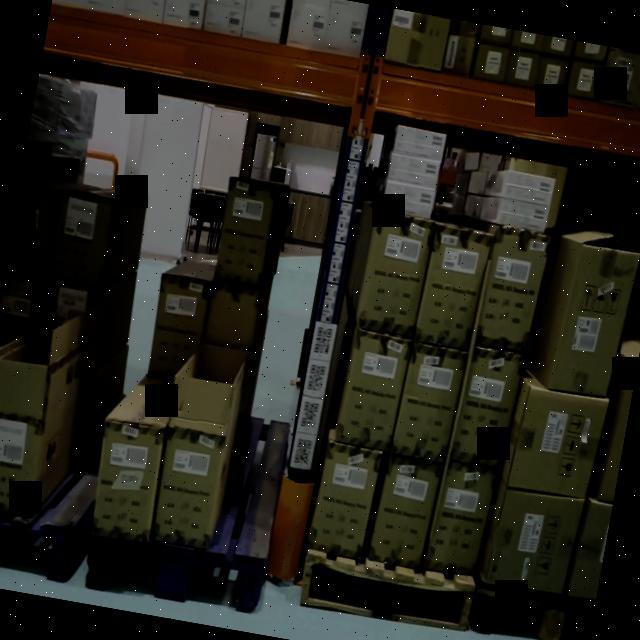box: (549, 247, 639, 395), (510, 390, 607, 498), (356, 210, 433, 338), (490, 490, 585, 592), (418, 226, 490, 346), (476, 230, 548, 350), (95, 416, 163, 538), (336, 332, 406, 450), (150, 432, 223, 544), (396, 348, 464, 458), (312, 446, 378, 558), (372, 458, 438, 568), (454, 352, 517, 464), (430, 462, 492, 572), (216, 182, 276, 283), (0, 419, 40, 521), (389, 151, 440, 187), (395, 126, 446, 160), (383, 184, 433, 218), (501, 198, 549, 231), (505, 171, 553, 204)
